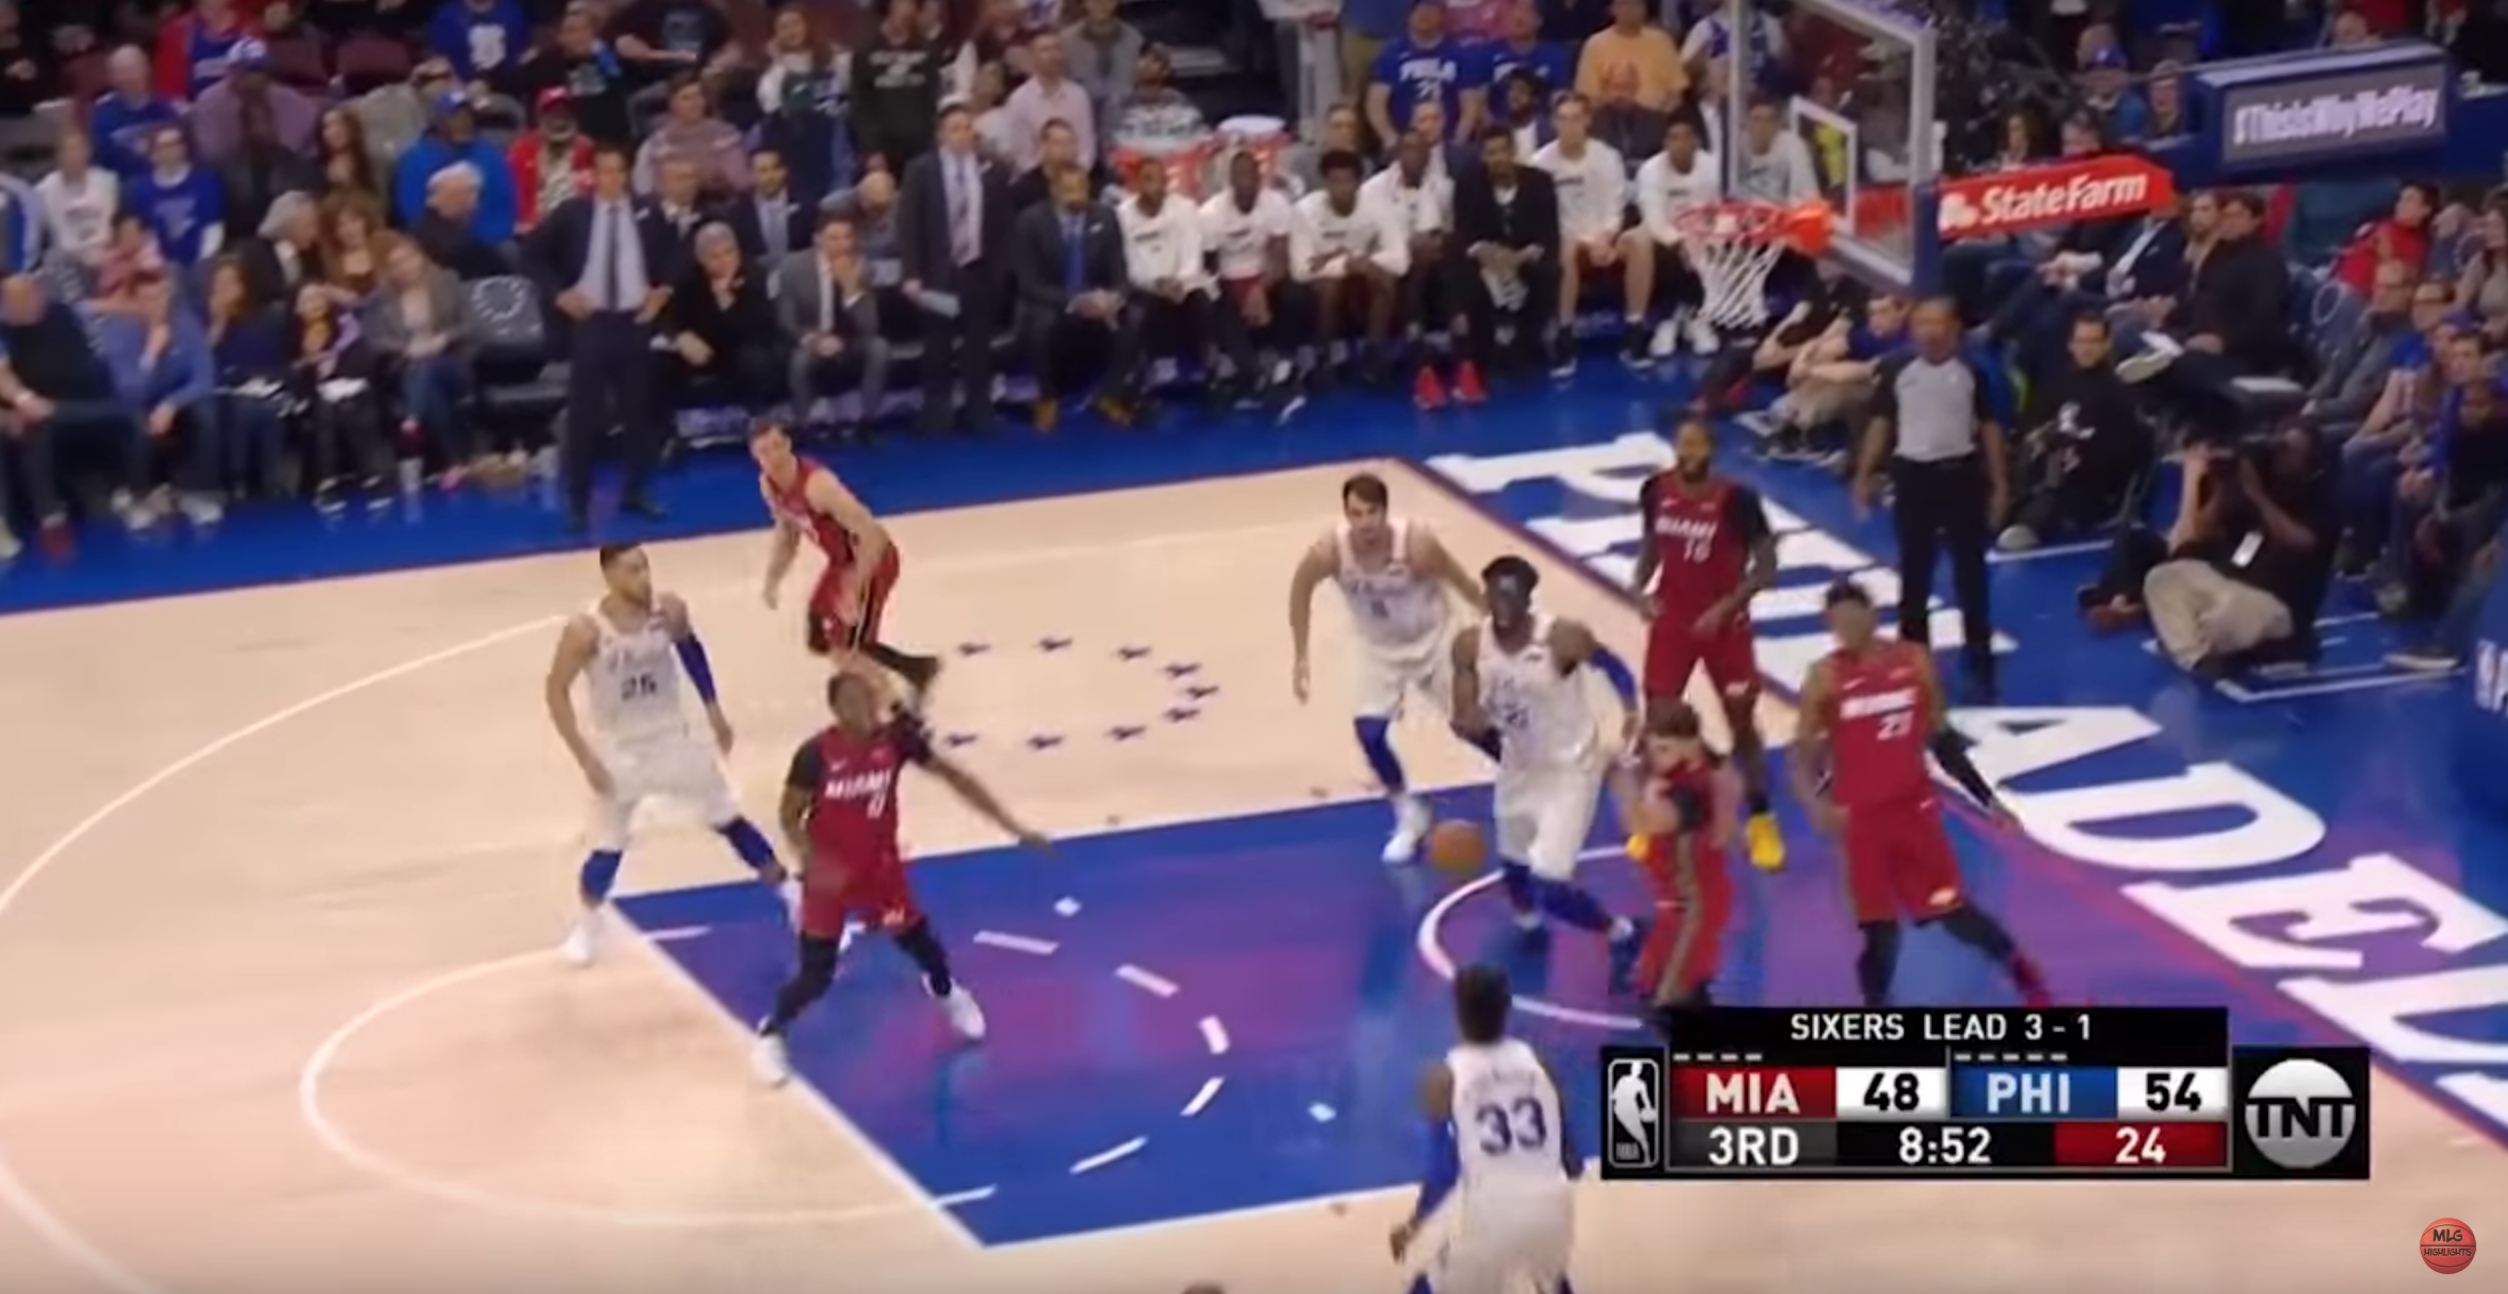basketball: (1414, 815, 1503, 884)
basketball player: (515, 544, 774, 971), (763, 671, 993, 1081), (1781, 575, 1994, 993), (1269, 449, 1464, 809), (1387, 968, 1588, 1293), (1489, 538, 1613, 970), (1604, 418, 1768, 687), (740, 408, 905, 665), (1634, 695, 1739, 1019)
